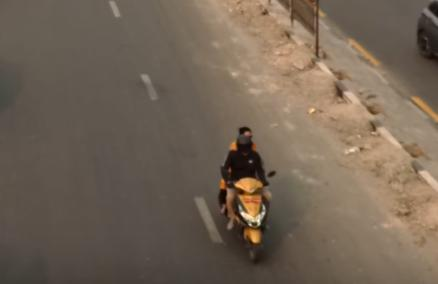scooter: (223, 174, 278, 259)
